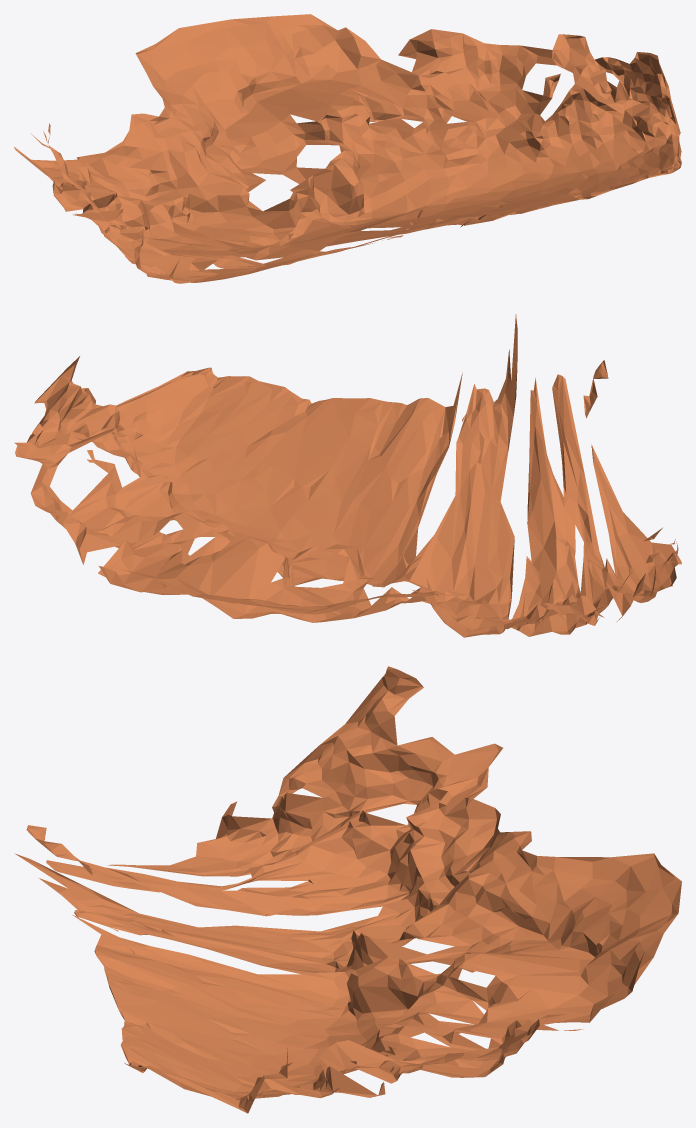
3 renders of one model, top to bottom at view 1: azimuth 30°, elevation 25°; view 2: azimuth 150°, elevation 25°; view 3: azimuth 270°, elevation 25°, orthographic. The views are drawn at different scales.
Parts seen in each view (by area): view 1: geometry_0; view 2: geometry_0; view 3: geometry_0.
Boxes of the visible parts, box(x1,y1,x2,y2) form: geometry_0: box(14, 14, 681, 283); geometry_0: box(14, 314, 681, 637); geometry_0: box(15, 666, 681, 1113).
Size of the model in its own units: 33.76 by 8.59 by 28.87.
